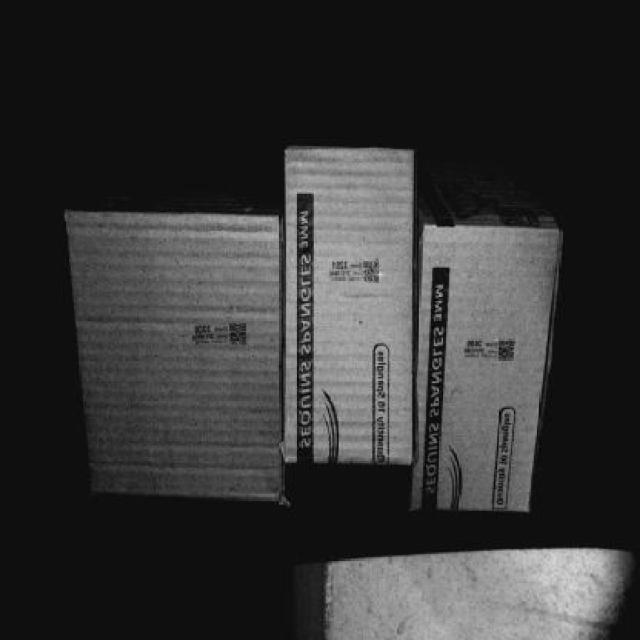cardboxes: (72, 212, 274, 498), (412, 226, 556, 506), (282, 151, 410, 460)
